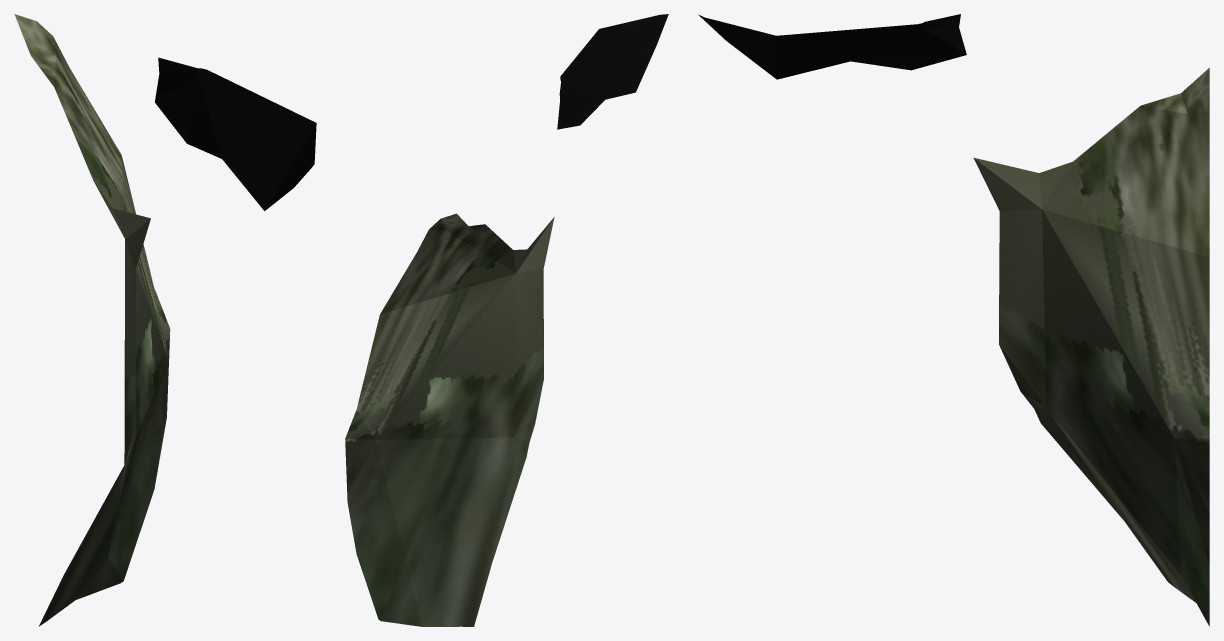
The picture shows the model from 3 angles, left to right: view 1: azimuth 30°, elevation 25°; view 2: azimuth 150°, elevation 25°; view 3: azimuth 270°, elevation 25°; orthographic projection. The views are drawn at different scales.
Bounding box in the file's own units: 0.7323 × 2.95 × 2.41.
1 material, 1 textured.
